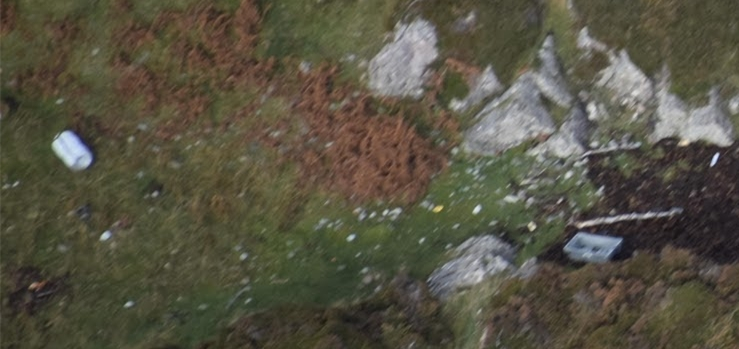cuboid: (558, 223, 632, 268)
straight_bar: (565, 198, 691, 232)
white_in_green: (20, 94, 126, 200)
